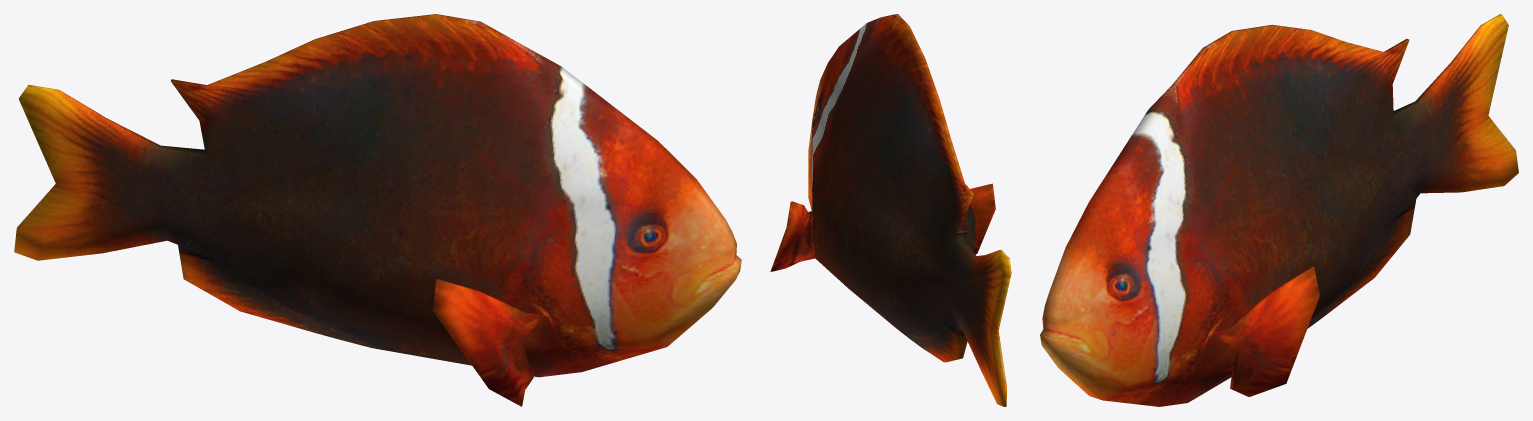
Rendered from TropicalFish14.fbx.
The picture shows the model from 3 angles, left to right: view 1: azimuth 30°, elevation 25°; view 2: azimuth 150°, elevation 25°; view 3: azimuth 270°, elevation 25°; orthographic projection. The views are drawn at different scales.
Visible parts, largest first — view 1: node_id4; view 2: node_id4; view 3: node_id4.
Boxes of the visible parts, x1,y1,x2,y2 form: node_id4: (14, 14, 741, 406); node_id4: (770, 14, 1011, 406); node_id4: (1040, 14, 1518, 406).
Bounding box in the file's own units: 0.7318 × 0.5187 × 0.6733.
Materials: 1 (1 with a texture image).
